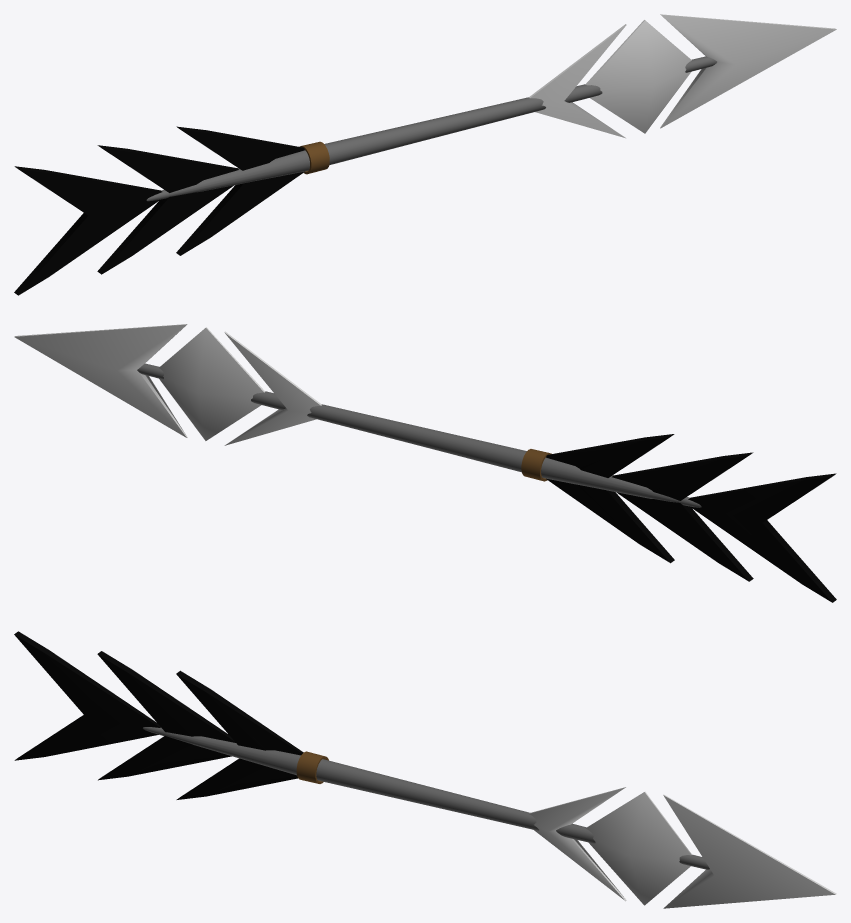
The model's file is uv fancy arrow.fbx.
3 views of the same model, one above another, from view 1: azimuth 30°, elevation 25°; view 2: azimuth 150°, elevation 25°; view 3: azimuth 330°, elevation 25° (orthographic).
Parts seen in each view (by area): view 1: arrow; view 2: arrow; view 3: arrow.
Boxes of the visible parts, x1,y1,x2,y2 form: arrow: (14,14,836,295); arrow: (14,324,836,602); arrow: (14,631,836,908).
Bounding box in the file's own units: 50.75 × 7.51 × 2.54.
